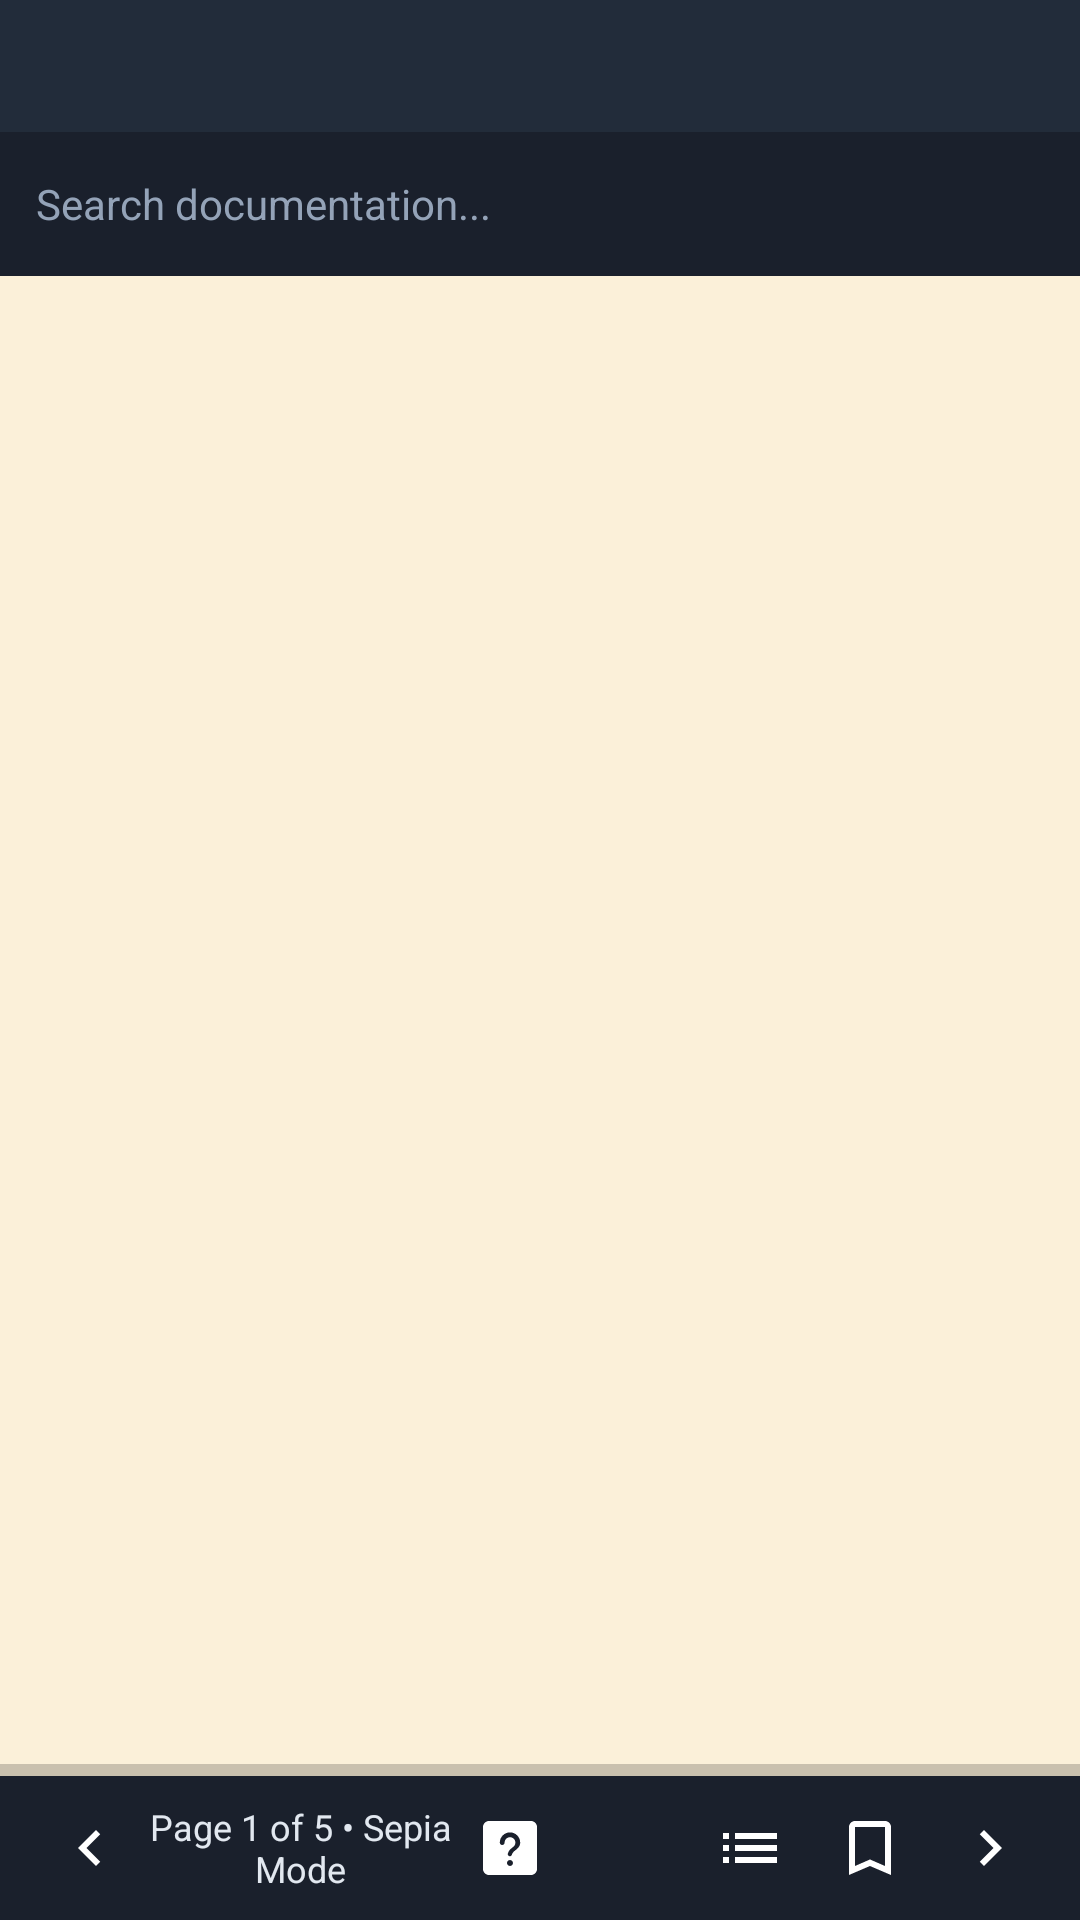

Icon bounding boxes for this 1080px x 1920px phone screenshot, format (x1, y1, x2, y2):
Bookmark Page: (849, 1821, 891, 1875)
Next Page: (980, 1830, 1002, 1866)
Previous Page: (78, 1830, 100, 1866)
Quick Quiz: (483, 1821, 537, 1875)
Table of Contents: (723, 1833, 777, 1863)
